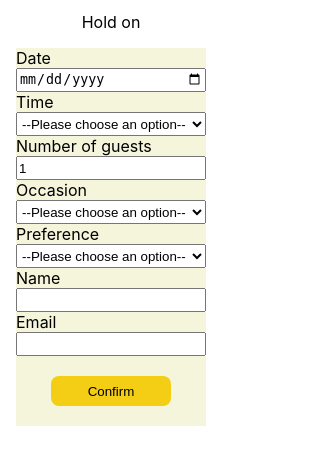
Test: Test BookingForm › Testing form validation on invalid inputs › test invalid occasion
This screenshot has width=320, height=459.
Select "no_occasion" in the dropdown labelled "Occasion" at {"x": 111, "y": 212}, box top-left (16, 200), bottom-right (206, 224)
Leave the dropdown labelled "Occasion", box top-left (16, 200), bottom-right (206, 224)
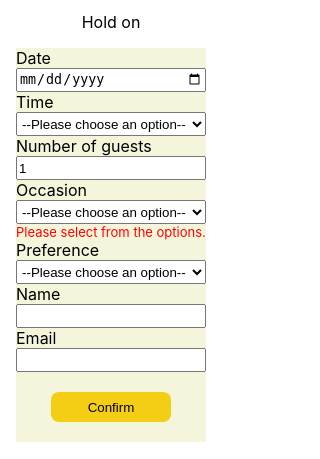
Now the text with test id "res_occasion_error" reads "Please select from the options.", box top-left (16, 224), bottom-right (206, 240)
